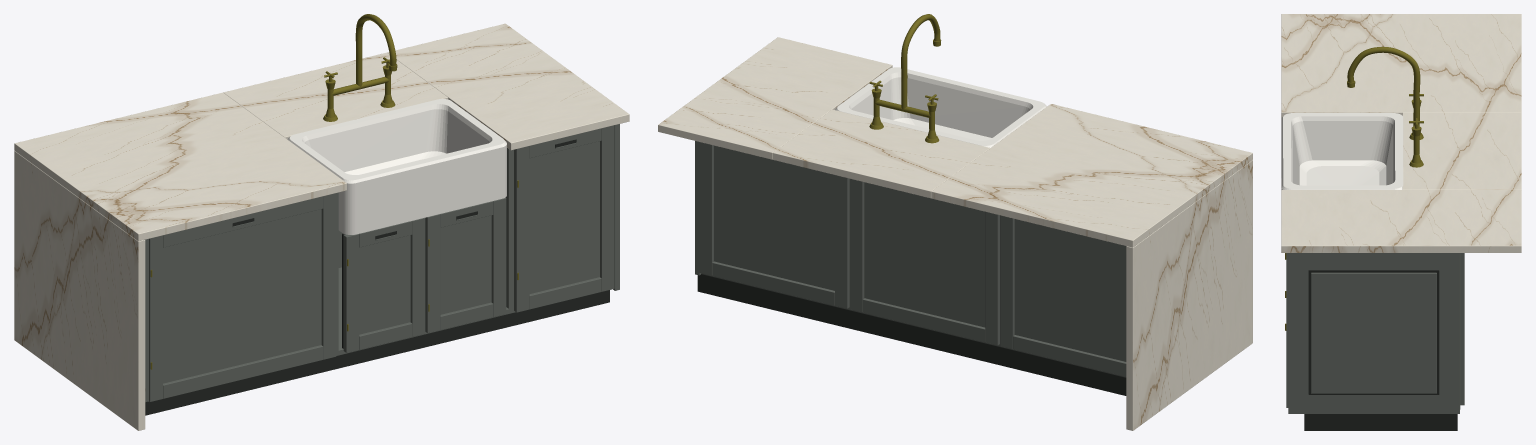
The model's file is waterfall_shaker_island_blender.glb.
3 renders of one model, left to right at view 1: azimuth 30°, elevation 25°; view 2: azimuth 150°, elevation 25°; view 3: azimuth 270°, elevation 25°, orthographic. The views are drawn at different scales.
Visible parts, largest first — view 1: Ivory veined stone, Warm grey shaker cabinetry, Ivory fireclay sink, Cabinet and drain recesses, Aged bronze hardware; view 2: Ivory veined stone, Warm grey shaker cabinetry, Cabinet and drain recesses, Ivory fireclay sink, Aged bronze hardware; view 3: Ivory veined stone, Warm grey shaker cabinetry, Ivory fireclay sink, Cabinet and drain recesses, Aged bronze hardware.
Boxes of the visible parts, bbox=[...] form: Ivory veined stone: bbox=[14, 23, 629, 430]; Warm grey shaker cabinetry: bbox=[145, 124, 619, 402]; Ivory fireclay sink: bbox=[287, 99, 506, 234]; Cabinet and drain recesses: bbox=[145, 139, 609, 415]; Aged bronze hardware: bbox=[150, 14, 518, 369]; Ivory veined stone: bbox=[658, 37, 1252, 430]; Warm grey shaker cabinetry: bbox=[695, 141, 1126, 376]; Cabinet and drain recesses: bbox=[697, 273, 1126, 395]; Ivory fireclay sink: bbox=[835, 67, 1046, 147]; Aged bronze hardware: bbox=[869, 14, 941, 143]; Ivory veined stone: bbox=[1281, 14, 1521, 252]; Warm grey shaker cabinetry: bbox=[1286, 253, 1464, 413]; Ivory fireclay sink: bbox=[1281, 113, 1403, 189]; Cabinet and drain recesses: bbox=[1304, 270, 1457, 430]; Aged bronze hardware: bbox=[1285, 46, 1423, 330].
Bounding box in the file's own units: 2.4 × 1.42 × 1.05.
Materials: 5 (1 with a texture image).
